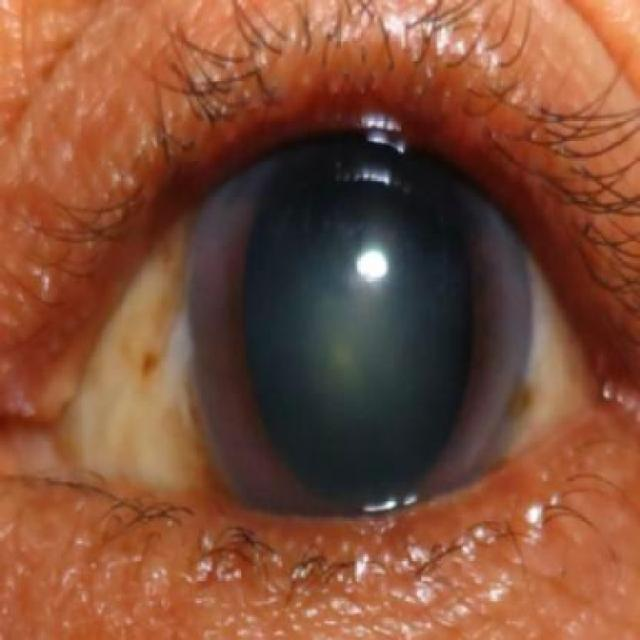Cataract: (192, 104, 530, 566)
